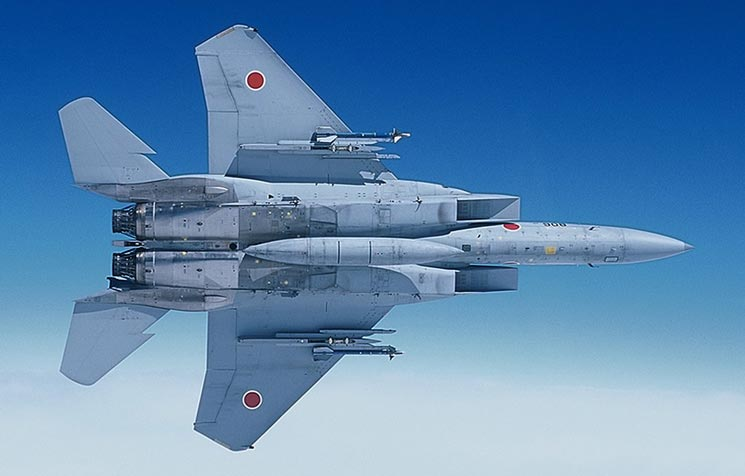airplane: (44, 25, 698, 452)
